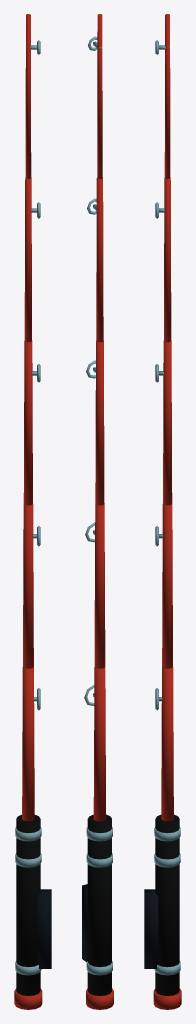
File: jigging_rod.glb
The picture shows the model from 3 angles, left to right: view 1: azimuth 90°, elevation 25°; view 2: azimuth 210°, elevation 25°; view 3: azimuth 270°, elevation 25°; orthographic projection.
Visible parts, largest first — view 1: jigging_rod_Handle, jigging_rod_Segment1, jigging_rod_Segment2, jigging_rod_Segment3, jigging_rod_Segment4, jigging_rod_Segment5; view 2: jigging_rod_Handle, jigging_rod_Segment1, jigging_rod_Segment2, jigging_rod_Segment3, jigging_rod_Segment4, jigging_rod_Segment5; view 3: jigging_rod_Handle, jigging_rod_Segment1, jigging_rod_Segment2, jigging_rod_Segment3, jigging_rod_Segment4, jigging_rod_Segment5.
Part boxes in pixels (x1,y1,x2,y2): jigging_rod_Handle: (14, 814, 51, 1009); jigging_rod_Segment1: (22, 667, 40, 821); jigging_rod_Segment2: (23, 504, 40, 668); jigging_rod_Segment3: (23, 340, 40, 505); jigging_rod_Segment4: (24, 177, 40, 342); jigging_rod_Segment5: (25, 14, 40, 178); jigging_rod_Handle: (82, 814, 113, 1009); jigging_rod_Segment1: (84, 667, 105, 821); jigging_rod_Segment2: (85, 503, 105, 668); jigging_rod_Segment3: (86, 340, 104, 505); jigging_rod_Segment4: (87, 177, 103, 342); jigging_rod_Segment5: (88, 14, 102, 178); jigging_rod_Handle: (144, 814, 181, 1009); jigging_rod_Segment1: (155, 667, 173, 821); jigging_rod_Segment2: (155, 504, 172, 668); jigging_rod_Segment3: (155, 340, 172, 505); jigging_rod_Segment4: (155, 177, 171, 342); jigging_rod_Segment5: (155, 14, 170, 178).
Size of the model in its own units: 0.0483 by 1.88 by 0.0641.
Materials: 1 (1 with a texture image).
